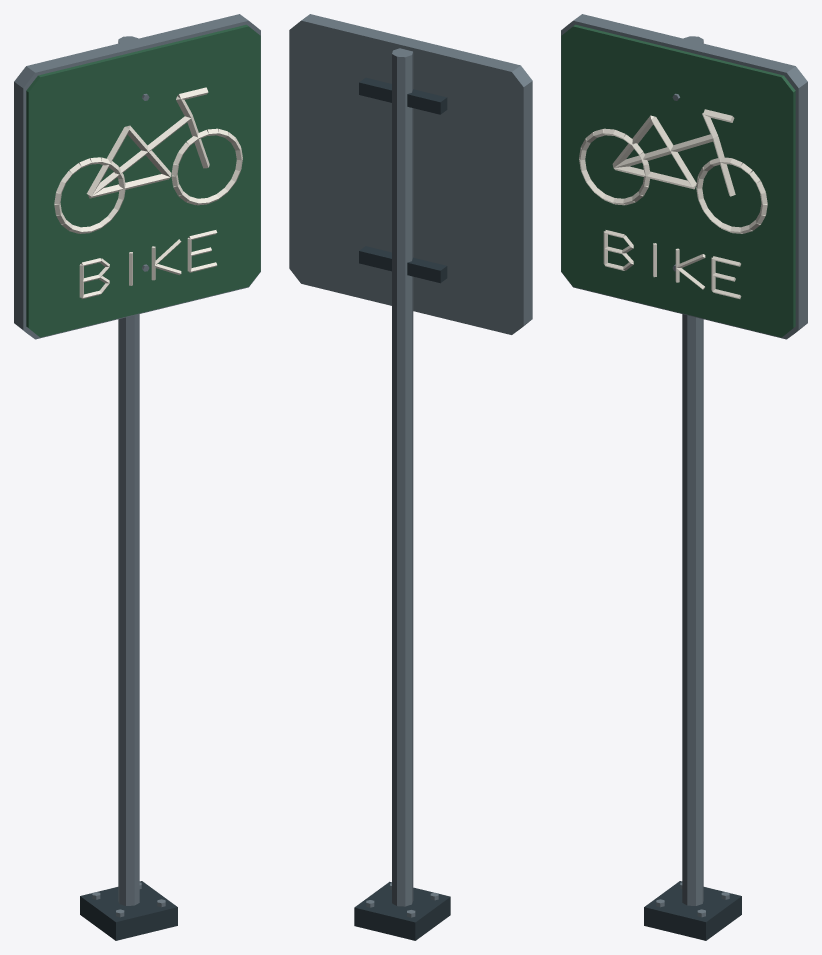
The model's file is b02_bike_route.glb.
The picture shows the model from 3 angles, left to right: view 1: azimuth 30°, elevation 25°; view 2: azimuth 150°, elevation 25°; view 3: azimuth 330°, elevation 25°; orthographic projection.
Visible parts, largest first — view 1: b02_bike_route; view 2: b02_bike_route; view 3: b02_bike_route.
Part boxes in pixels (x1,y1,x2,y2): b02_bike_route: [14, 14, 260, 940]; b02_bike_route: [289, 14, 532, 940]; b02_bike_route: [561, 14, 807, 940].
Bounding box in the file's own units: 0.69 × 2.45 × 0.198.
